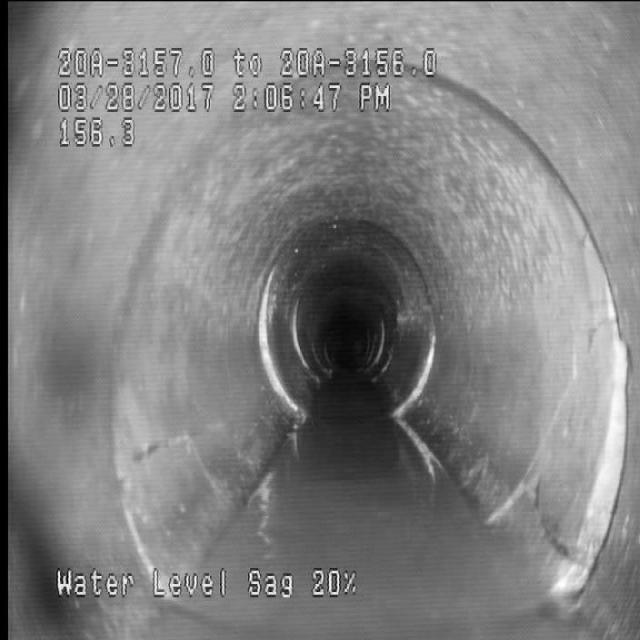Crack: (125, 382, 222, 510)
